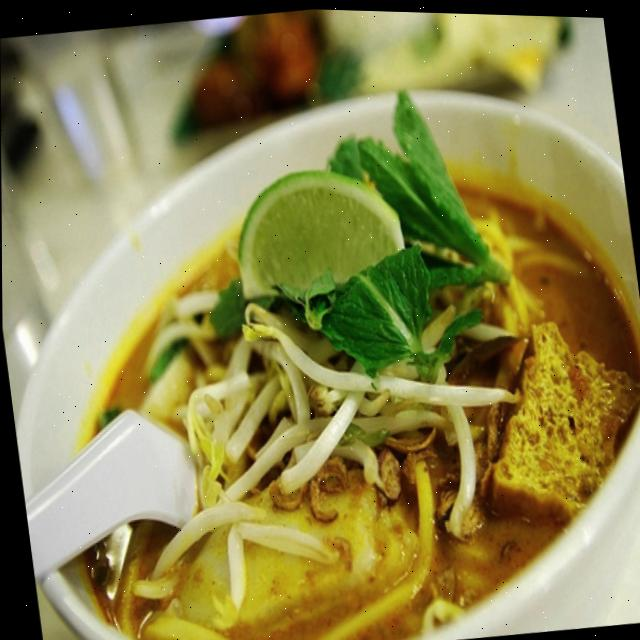面条主食: (2, 39, 640, 640)
